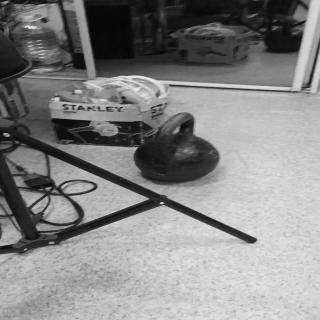kettlebell: (133, 114, 224, 186)
